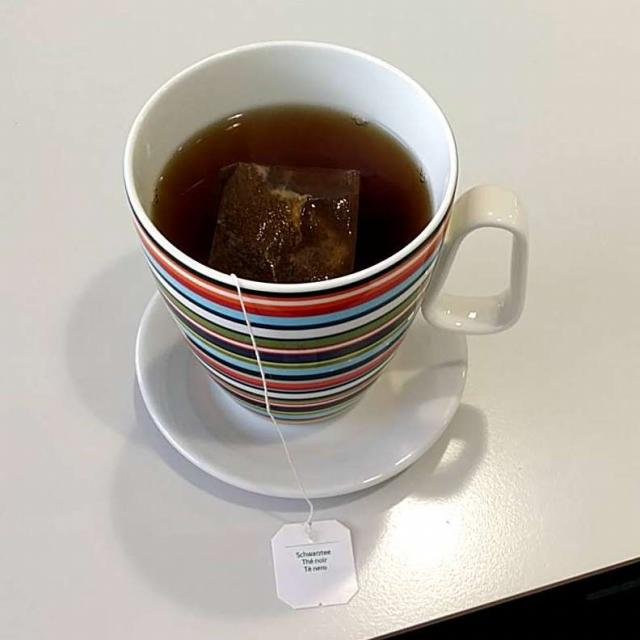tea-black: (153, 106, 426, 280)
